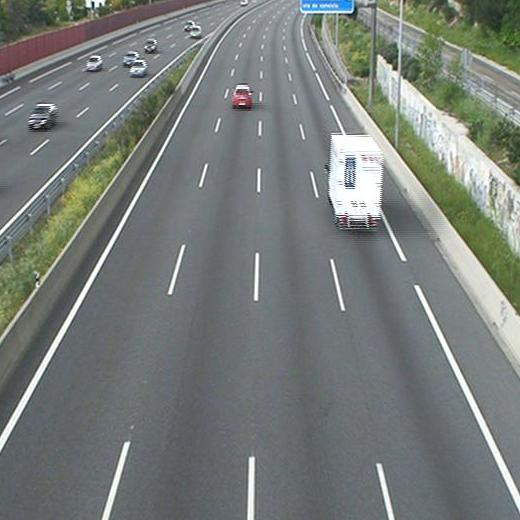car: (232, 85, 253, 106)
small-truck: (328, 135, 382, 229)
